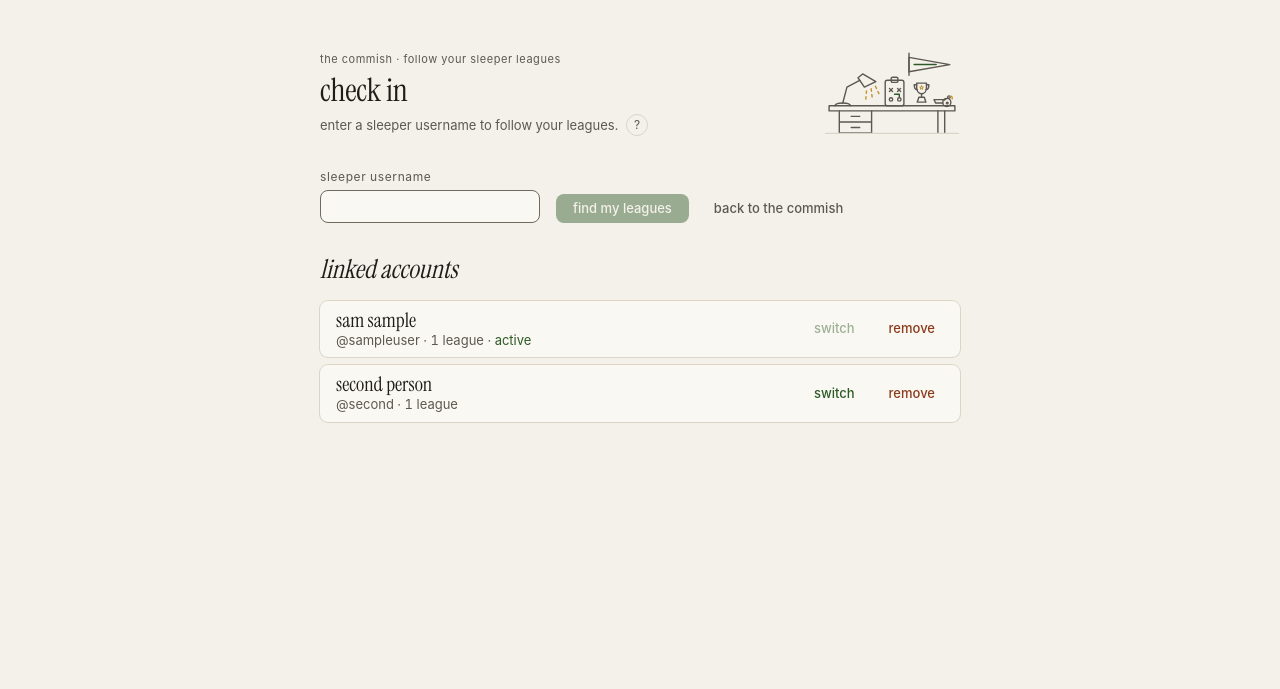
sign in › switching to another linked account goes Home
The image size is (1280, 689).
Click the button with aria-label "Switch to Second Person" at (834, 394), box [805,379,864,408]
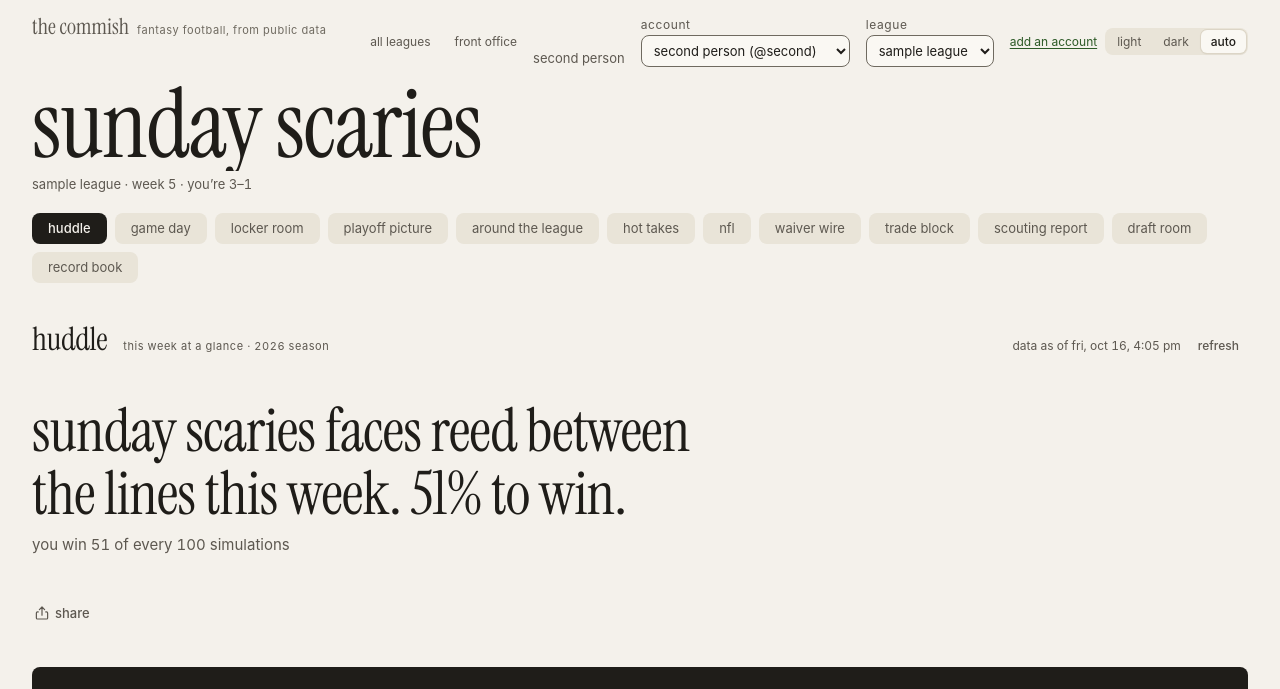
Now the navigation bar named "Primary" is shown, box [32,209,1248,283]
